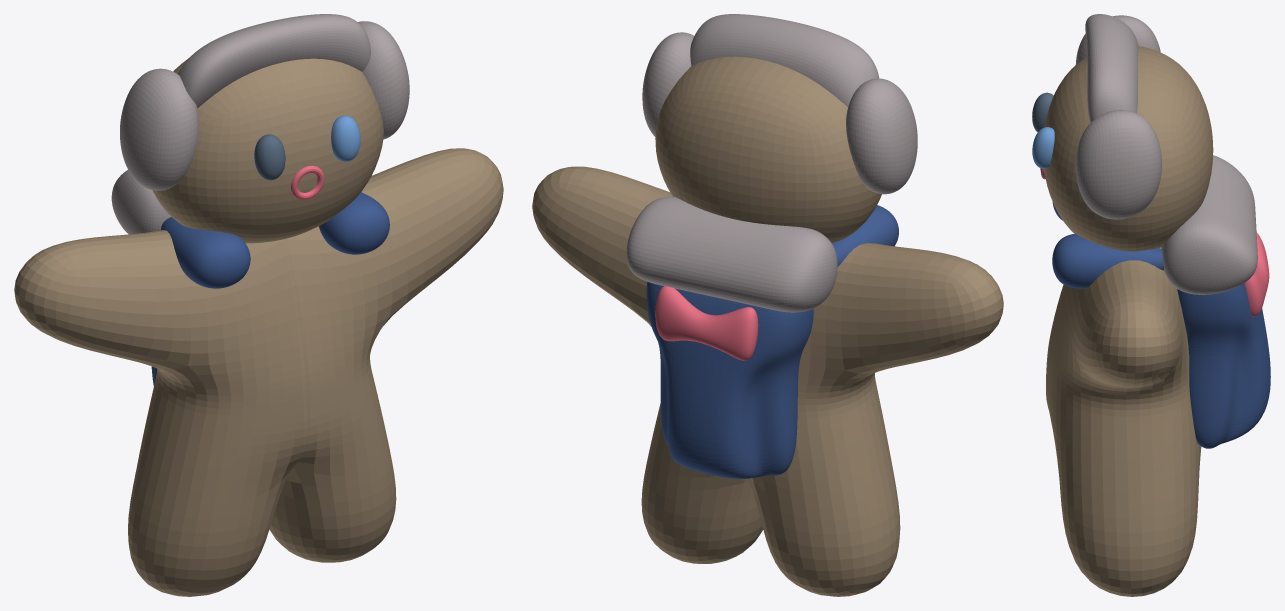
The model's file is Buddy.fbx.
The picture shows the model from 3 angles, left to right: view 1: azimuth 30°, elevation 25°; view 2: azimuth 150°, elevation 25°; view 3: azimuth 270°, elevation 25°; orthographic projection. The views are drawn at different scales.
Parts seen in each view (by area): view 1: Cube.001, Cube, Cube.004, Cube.011, Cube.009, Cube.010, Cube.008, Cube.007, Cube.002, Cube.003, Plane; view 2: Cube.001, Cube, Cube.005, Cube.007, Cube.004, Cube.011, Cube.006, Cube.010, Cube.009; view 3: Cube.001, Cube, Cube.005, Cube.007, Cube.010, Cube.004, Cube.008, Cube.006, Cube.011, Cube.003, Cube.002.
Part boxes in pixels (x1,y1,x2,y2): Cube.001: (14, 148, 503, 596); Cube: (152, 58, 383, 243); Cube.004: (178, 14, 370, 107); Cube.011: (120, 68, 198, 190); Cube.009: (161, 217, 250, 288); Cube.010: (358, 21, 409, 139); Cube.008: (319, 192, 389, 254); Cube.007: (111, 170, 171, 234); Cube.002: (254, 134, 285, 180); Cube.003: (331, 115, 360, 161); Plane: (291, 165, 324, 199); Cube.001: (532, 166, 1003, 596); Cube: (655, 56, 881, 243); Cube.005: (646, 282, 813, 478); Cube.007: (626, 196, 837, 312); Cube.004: (690, 14, 879, 106); Cube.011: (846, 78, 917, 194); Cube.006: (655, 286, 758, 360); Cube.010: (642, 32, 694, 136); Cube.009: (832, 205, 898, 266); Cube.001: (1046, 247, 1201, 596); Cube: (1044, 46, 1213, 251); Cube.005: (1177, 283, 1270, 448); Cube.007: (1161, 155, 1257, 294); Cube.010: (1075, 110, 1161, 219); Cube.004: (1085, 14, 1138, 122); Cube.008: (1052, 233, 1163, 288); Cube.006: (1244, 232, 1269, 317); Cube.011: (1075, 15, 1160, 64); Cube.003: (1032, 127, 1054, 168); Cube.002: (1032, 92, 1053, 132).
Size of the model in its own units: 95.08 by 106 by 43.97.
